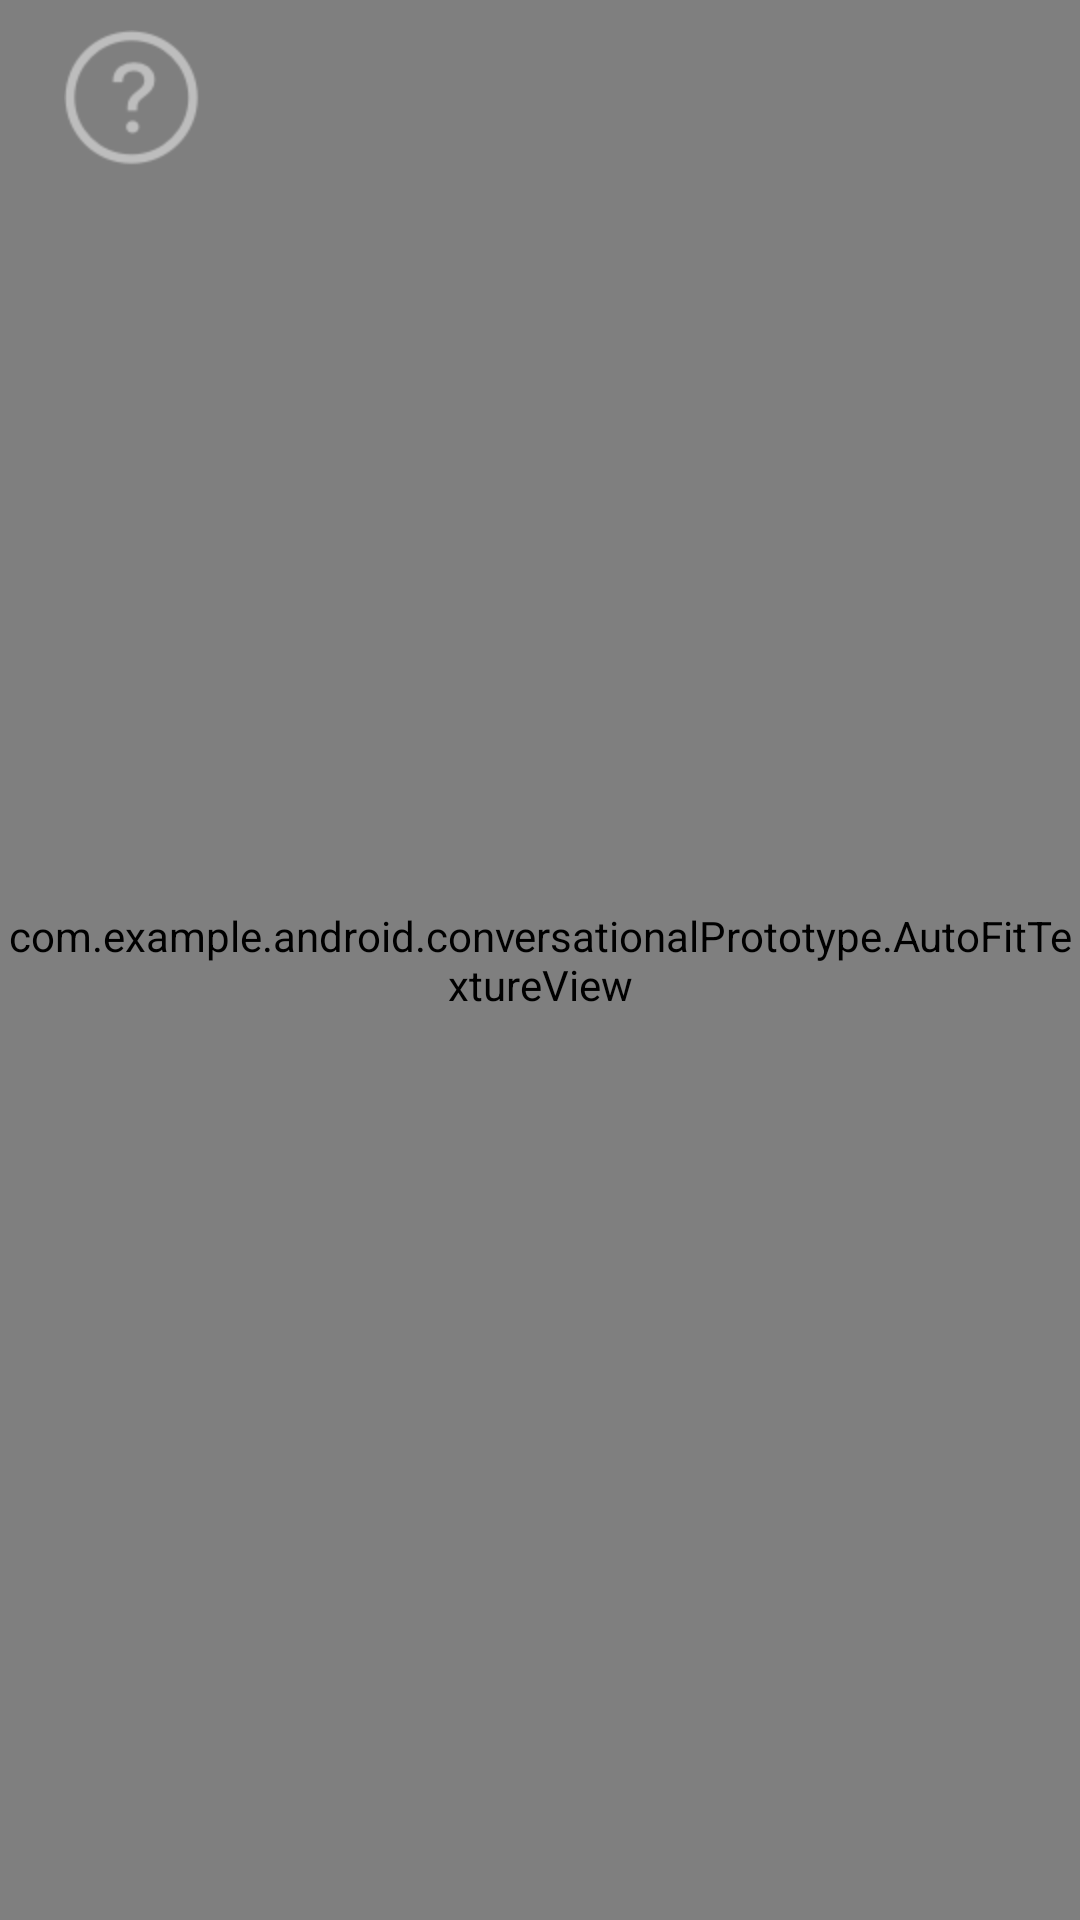

Point at icon controls on the screen. Image size 1080 × 1920, points as (x,y).
Info: (131,97)
